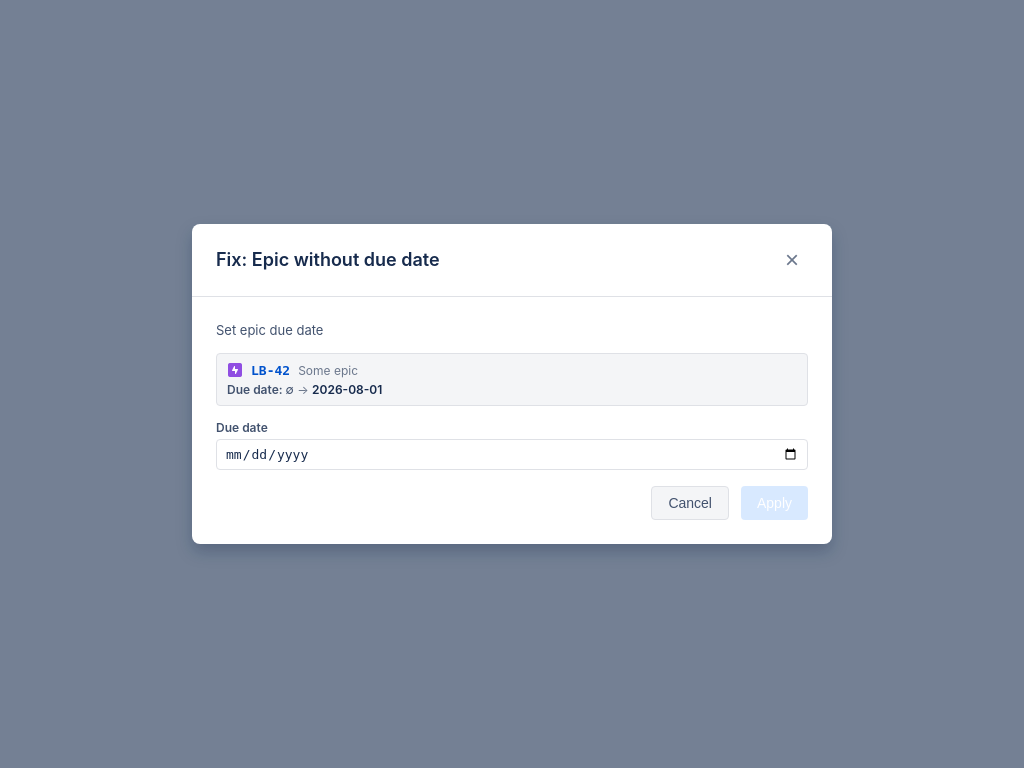
Scenario: FixModal › disables Apply until a required input is filled
expect the button "Apply" is disabled: met, box [741,486,808,520]
// Fill the date input
Step 1. Type "2026-08-15" into the date field labelled "Due date" → (512, 455), box [216,439,808,470]
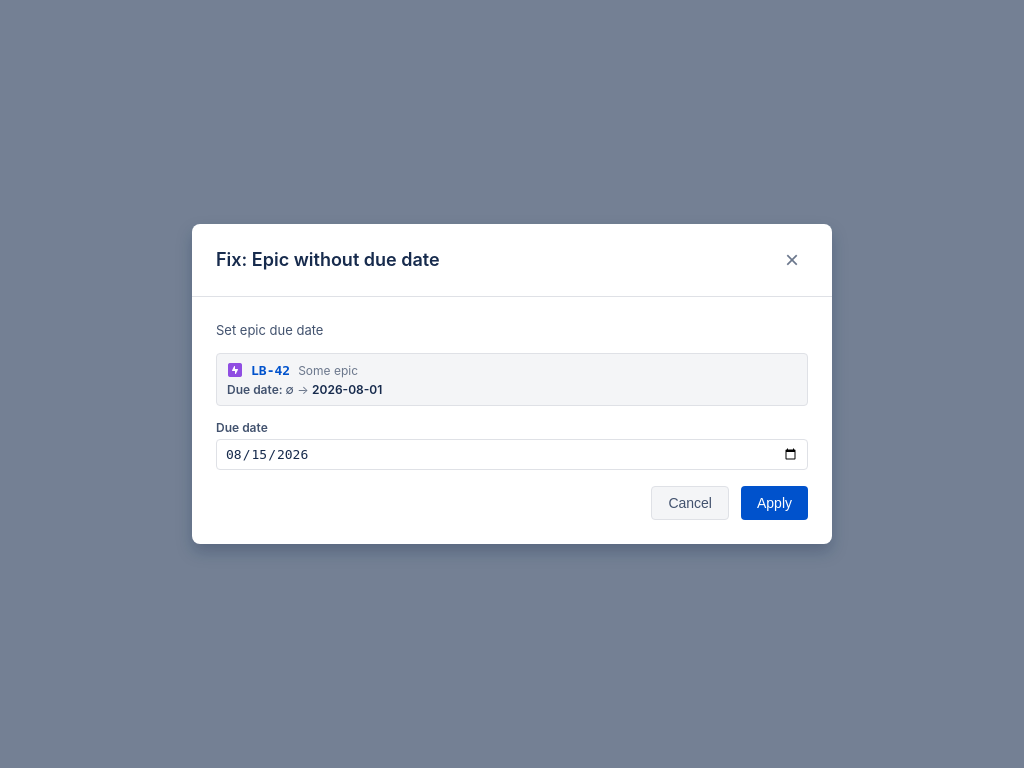
expect the button "Apply" is enabled: met, box [741,486,808,520]
